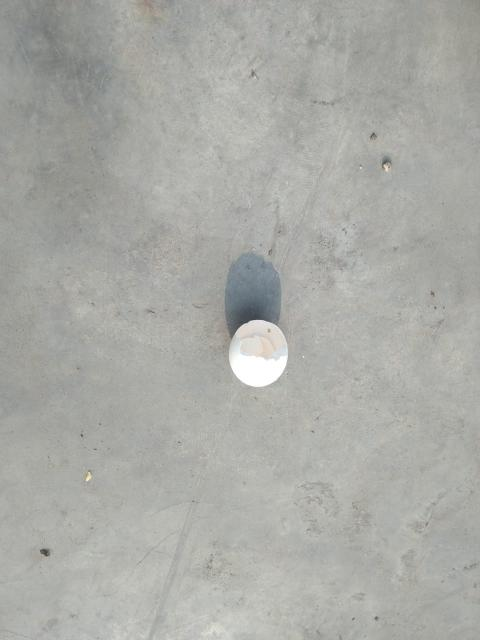Roto: (231, 318, 288, 388)
